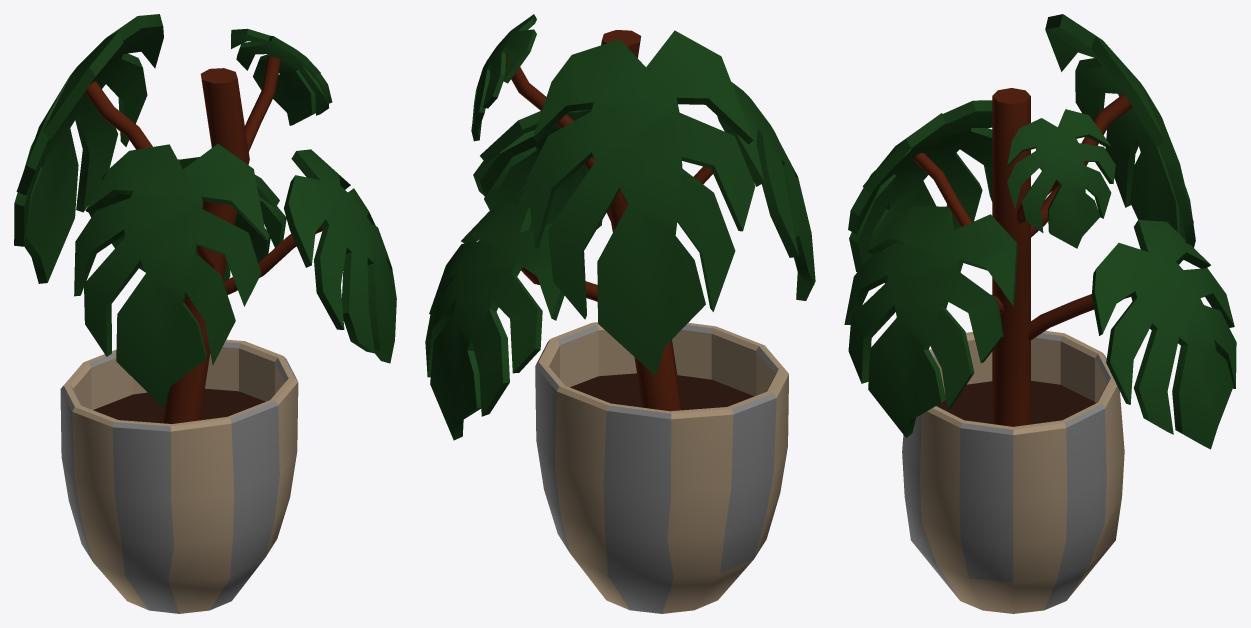
File: OBJ_pot.fbx
3 views of the same model, side by side, from view 1: azimuth 30°, elevation 25°; view 2: azimuth 150°, elevation 25°; view 3: azimuth 270°, elevation 25° (orthographic). The views are drawn at different scales.
Parts seen in each view (by area): view 1: Line004, Sphere001, Cylinder005, Cylinder003; view 2: Line004, Sphere001, Cylinder005; view 3: Line004, Sphere001, Cylinder005.
Boxes of the visible parts, x1=… form: Line004: x1=14, y1=14, x2=396, y2=407; Sphere001: x1=60, y1=339, x2=298, y2=613; Cylinder005: x1=85, y1=56, x2=280, y2=423; Cylinder003: x1=223, y1=226, x2=322, y2=294; Line004: x1=425, y1=14, x2=815, y2=440; Sphere001: x1=535, y1=322, x2=788, y2=613; Cylinder005: x1=505, y1=30, x2=712, y2=411; Line004: x1=844, y1=14, x2=1236, y2=449; Sphere001: x1=902, y1=330, x2=1124, y2=613; Cylinder005: x1=913, y1=88, x2=1132, y2=426.
Bounding box in the file's own units: 33.85 × 57.66 × 36.75.
